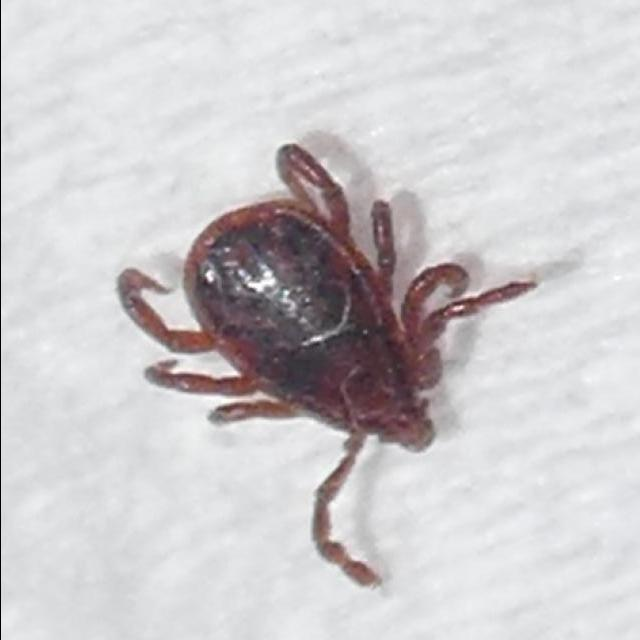Rhipicephalus Sanguineus-M: (113, 143, 534, 587)
